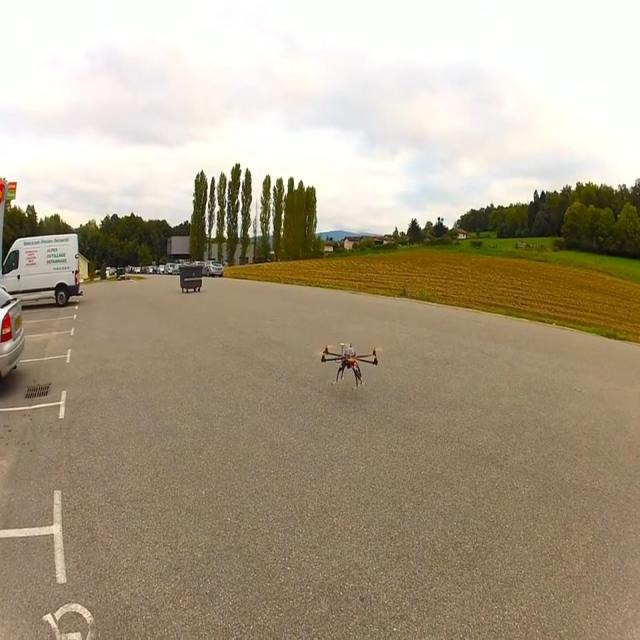drone: (320, 341, 379, 388)
